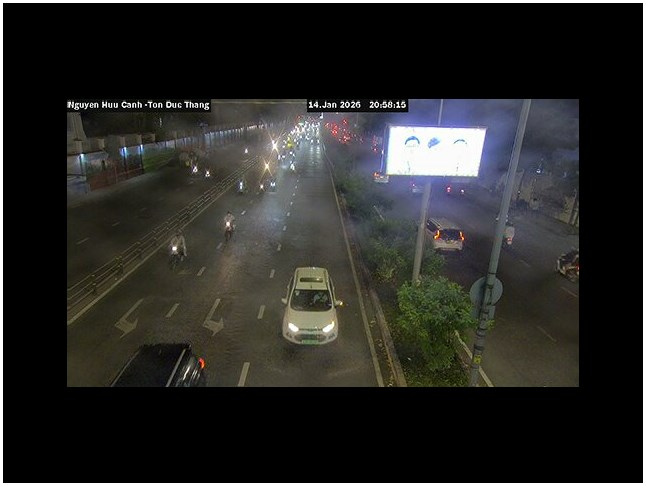car: (280, 265, 343, 346), (109, 341, 207, 387), (429, 225, 466, 253), (556, 247, 579, 277)
